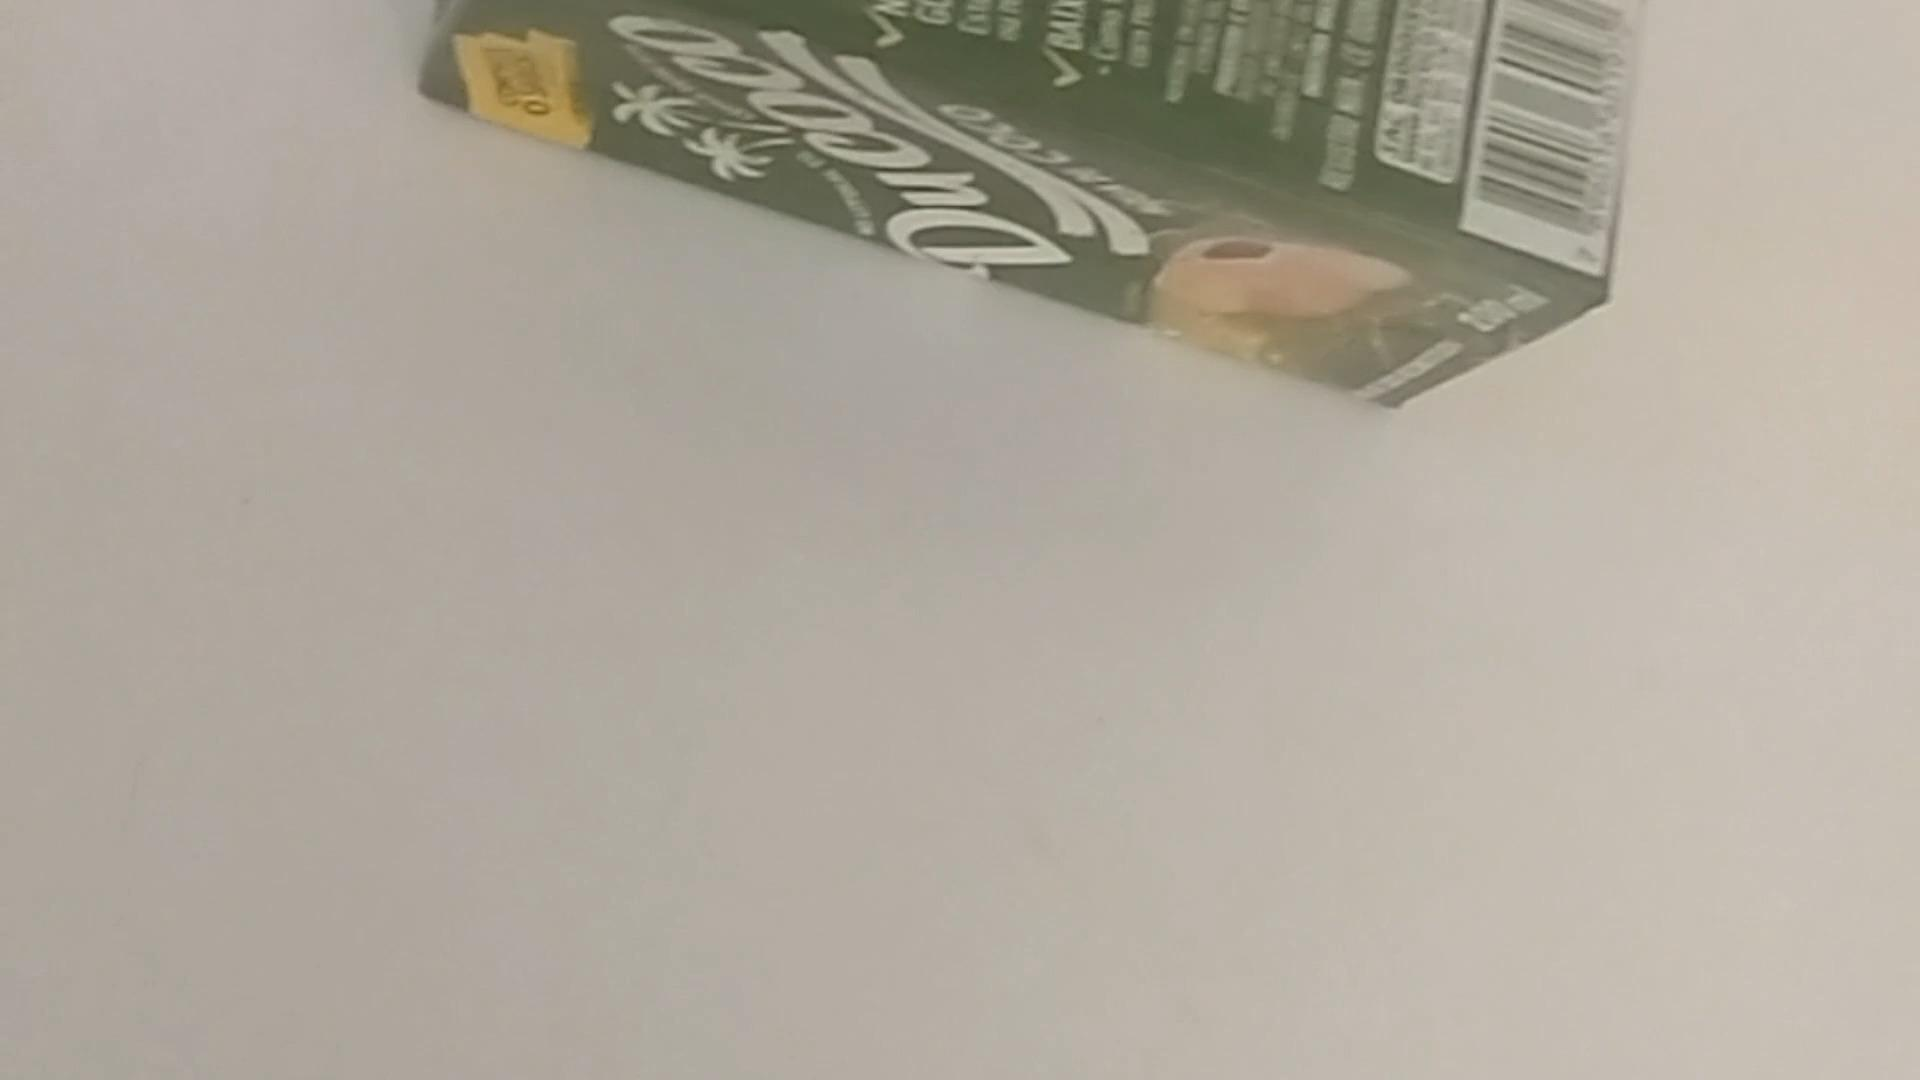coco: (431, 5, 1639, 413)
